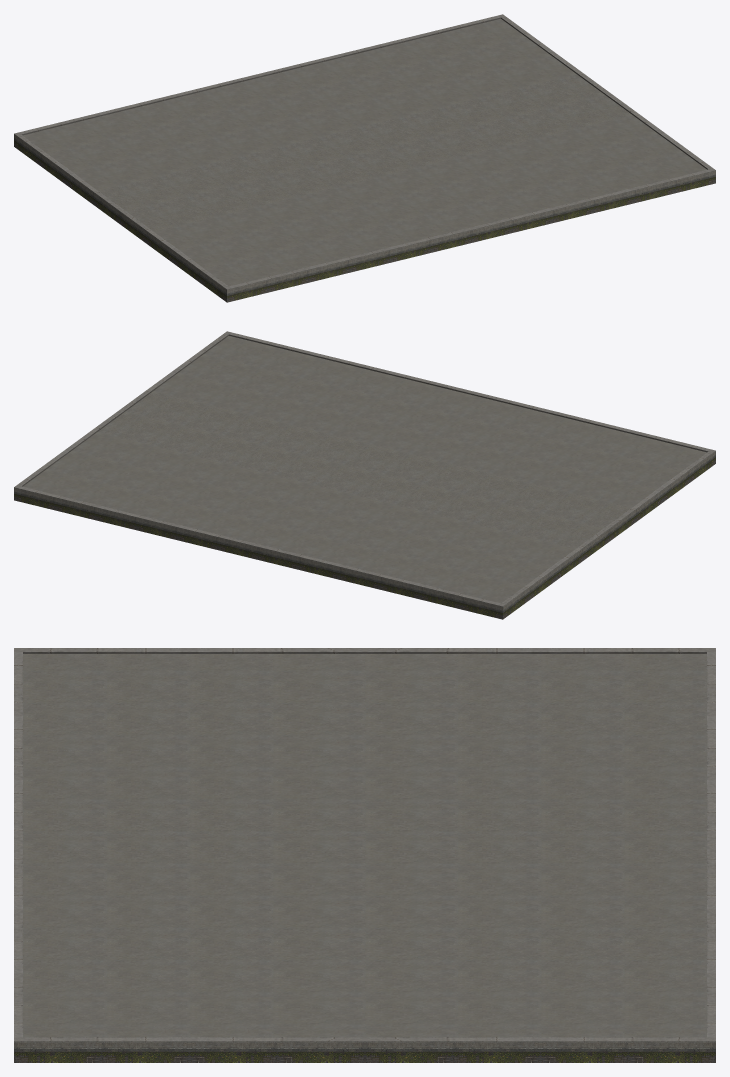
File: MiniBR_Floor002.fbx
The picture shows the model from 3 angles, top to bottom: view 1: azimuth 30°, elevation 25°; view 2: azimuth 150°, elevation 25°; view 3: azimuth 270°, elevation 25°; orthographic projection. The views are drawn at different scales.
Visible parts, largest first — view 1: MiniBR_Floor002; view 2: MiniBR_Floor002; view 3: MiniBR_Floor002.
Part boxes in pixels (x1,y1,x2,y2): MiniBR_Floor002: (14,14,715,302); MiniBR_Floor002: (14,331,715,619); MiniBR_Floor002: (14,648,715,1062).
Bounding box in the file's own units: 3984 × 3007 × 103.
